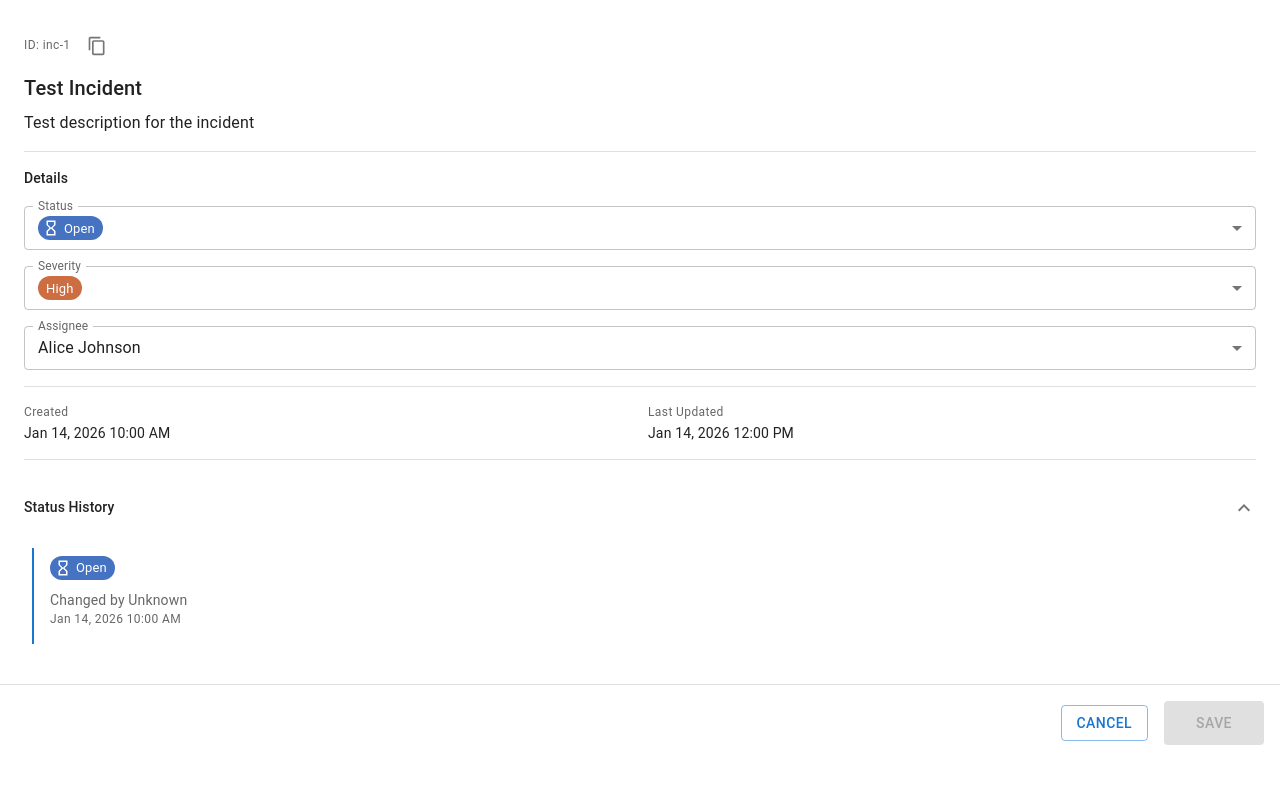
Test: IncidentDetailForm › layout structure › displays status chip in status dropdown (FR-012)
// Click to open dropdown and verify chips in menu
Click the dropdown named "status". click: {"x": 70, "y": 228}
box: [38,216,103,240]
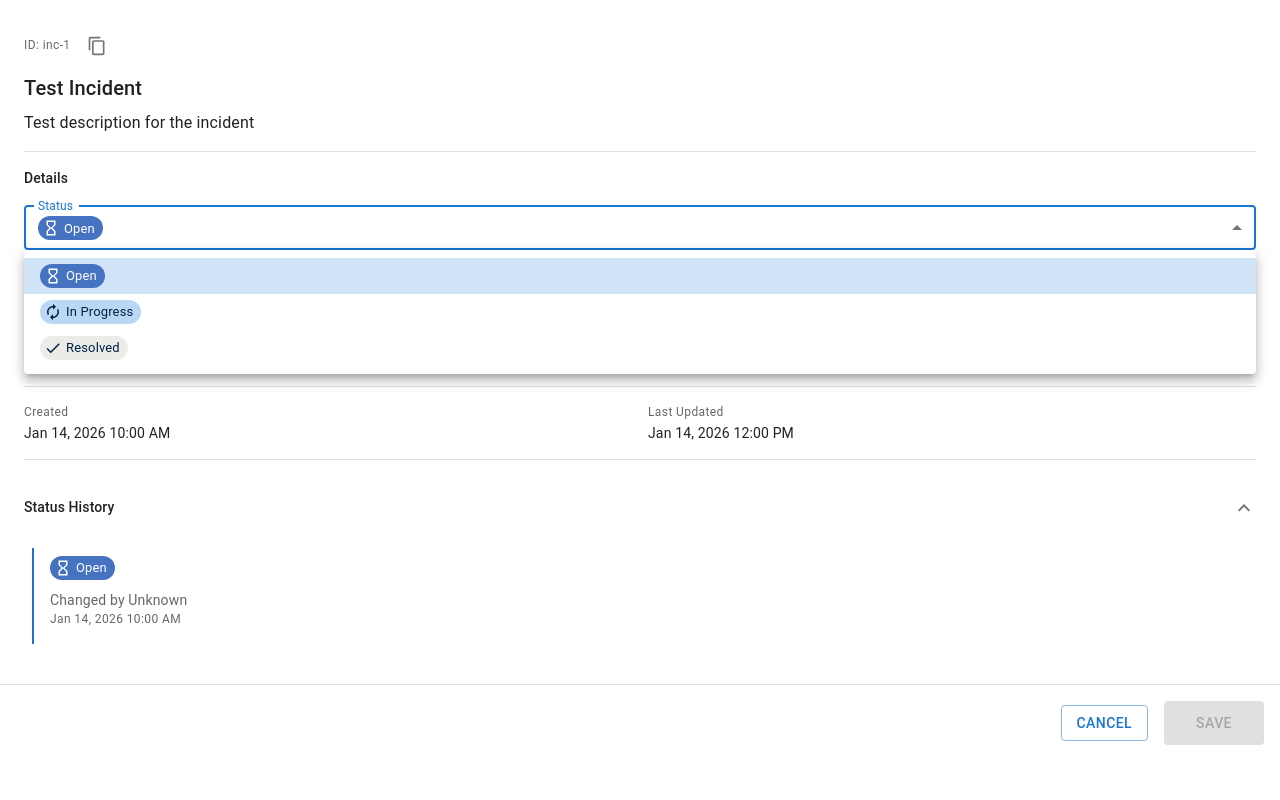
Expected: the option "Open" is shown, [24,258,1256,294]
